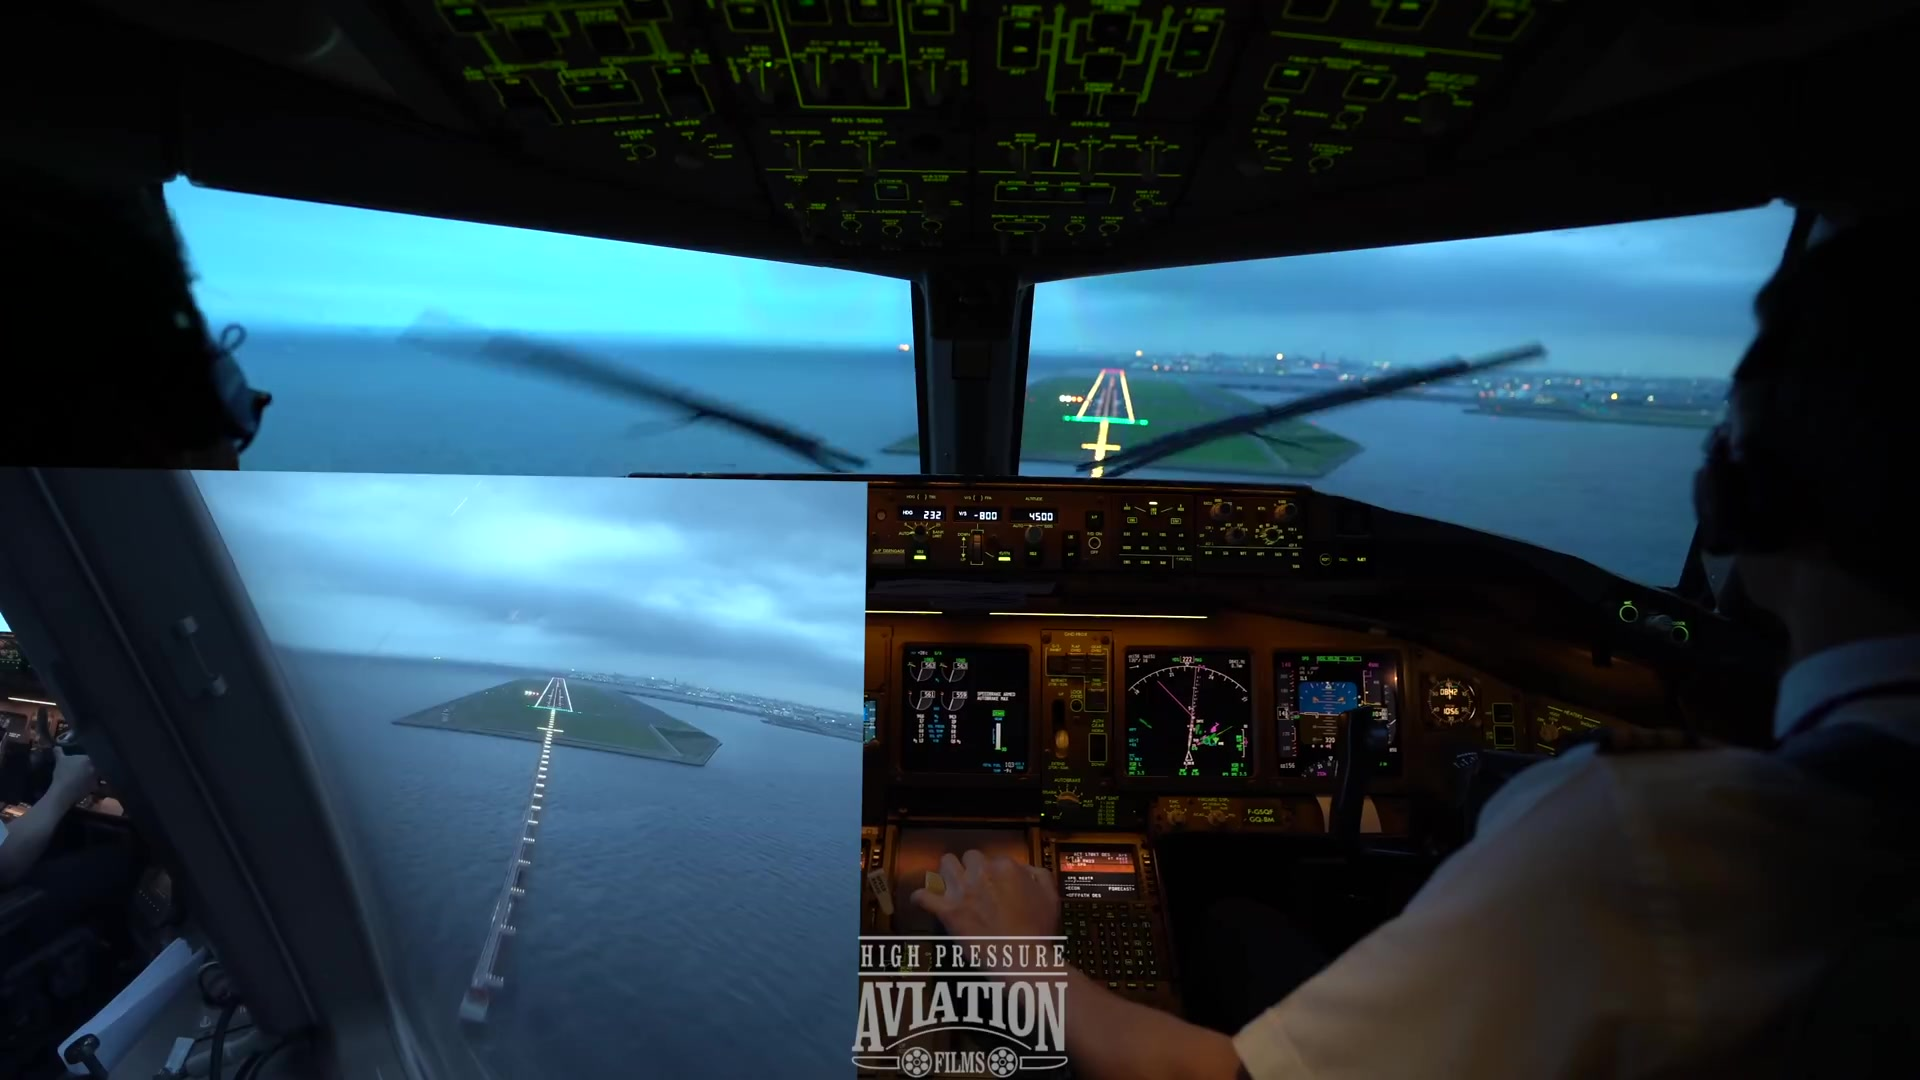runway: (1079, 365, 1139, 425), (531, 674, 578, 715)
